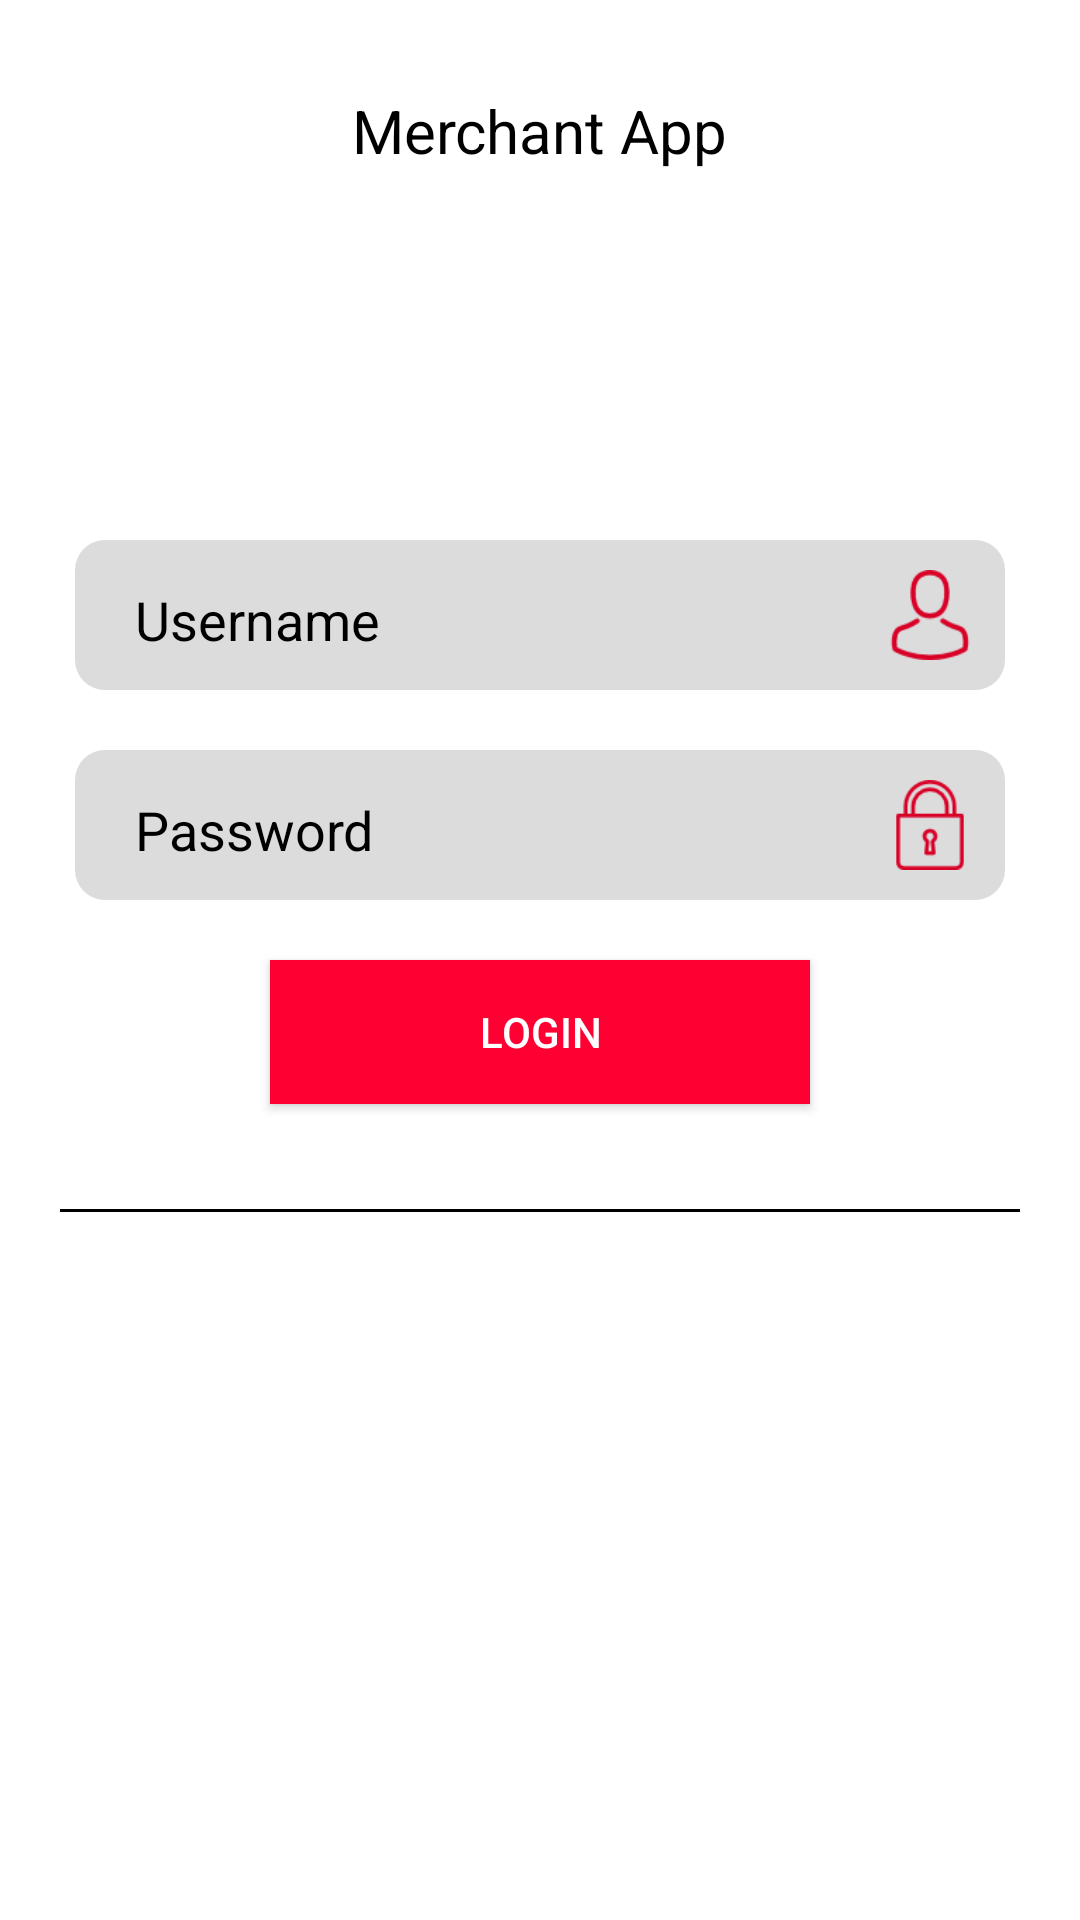

Icon click points for this 1080 × 1920 phone screenshot, format [x,y]:
lock: [930,825]
profilee: [930,615]
